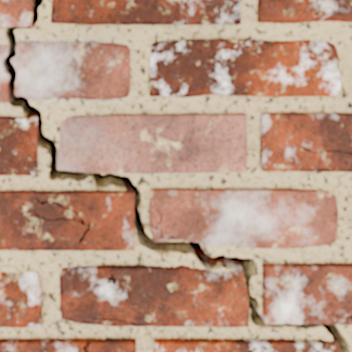brick: (60, 266, 248, 326), (58, 114, 246, 172), (150, 189, 337, 247), (150, 39, 339, 96), (0, 191, 133, 249), (261, 113, 351, 171), (263, 264, 351, 323), (52, 0, 239, 24), (0, 271, 41, 326), (154, 339, 339, 351), (0, 117, 36, 174), (258, 0, 351, 22), (0, 339, 135, 351), (0, 0, 32, 26), (151, 228, 171, 240)
broken_brick: (12, 41, 130, 100), (0, 45, 7, 103)
crack: (2, 0, 350, 351), (150, 207, 174, 238), (91, 317, 138, 326), (307, 165, 329, 171), (82, 341, 92, 351), (226, 0, 231, 7), (184, 0, 189, 6), (346, 314, 351, 319)
